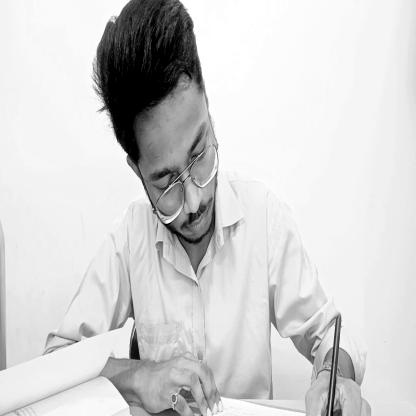Distracted: (97, 11, 220, 253)
